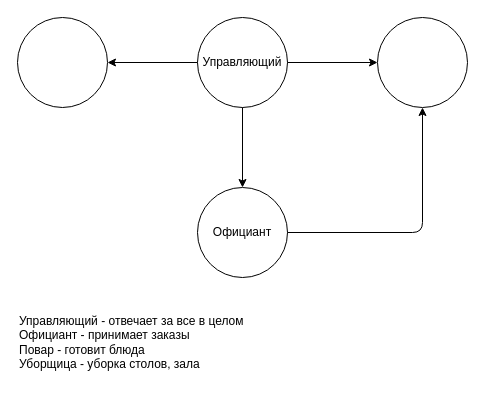
The diagram is 485 pixels wide and 405 high, and some of its shapes have lost their labels. Here are the shapes that lost their labels. From the top down, the centre of each, then its label:
At point 62,62: "Уборщица".
At point 422,62: "Повар".
